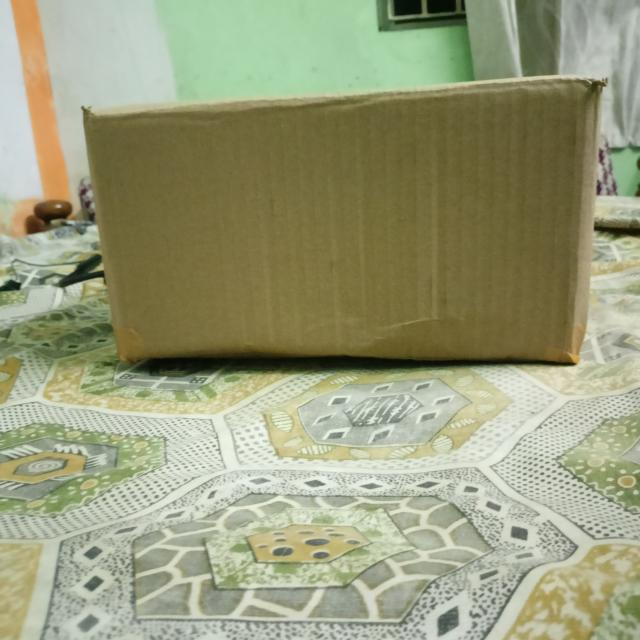box: (82, 86, 587, 364)
